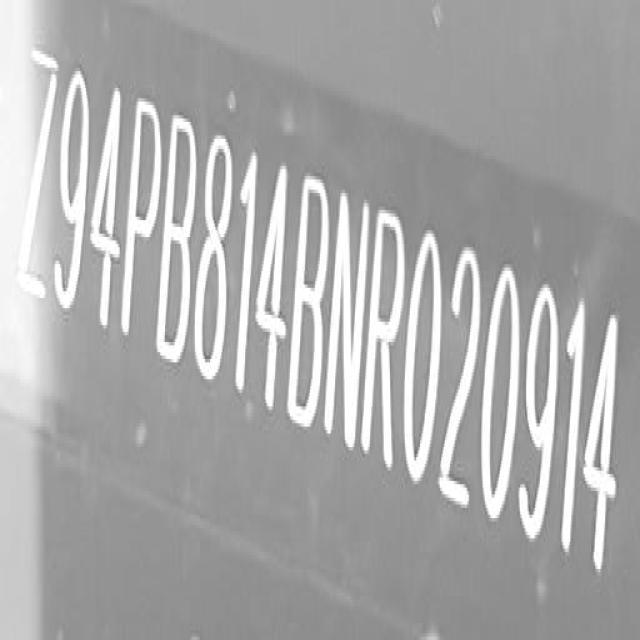0: (400, 228, 445, 495), (478, 266, 523, 528)
1: (553, 296, 588, 564), (231, 148, 256, 396)
2: (438, 256, 485, 514)
4: (580, 307, 626, 575), (86, 79, 127, 334), (254, 162, 295, 416)
8: (193, 135, 236, 383)
9: (516, 286, 562, 546), (50, 66, 93, 314)
B: (287, 168, 334, 432), (157, 113, 199, 368)
N: (322, 187, 373, 454)
P: (120, 92, 165, 351)
R: (364, 206, 411, 472)
Z: (14, 49, 59, 296)
